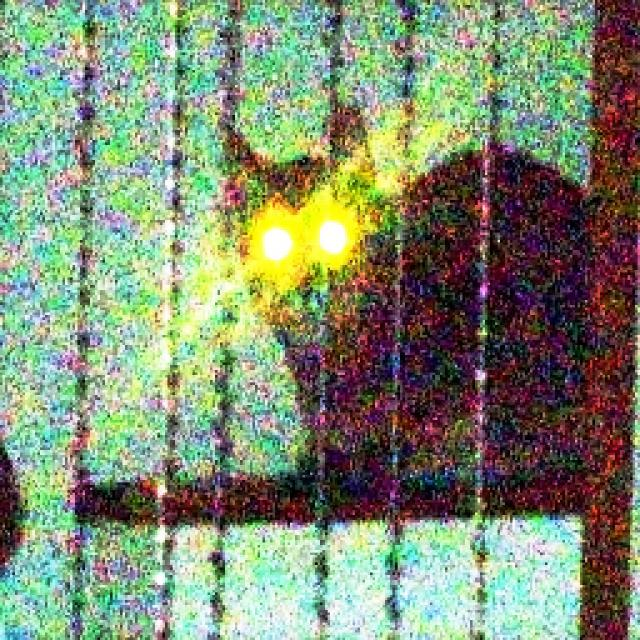cat: (209, 116, 586, 487)
